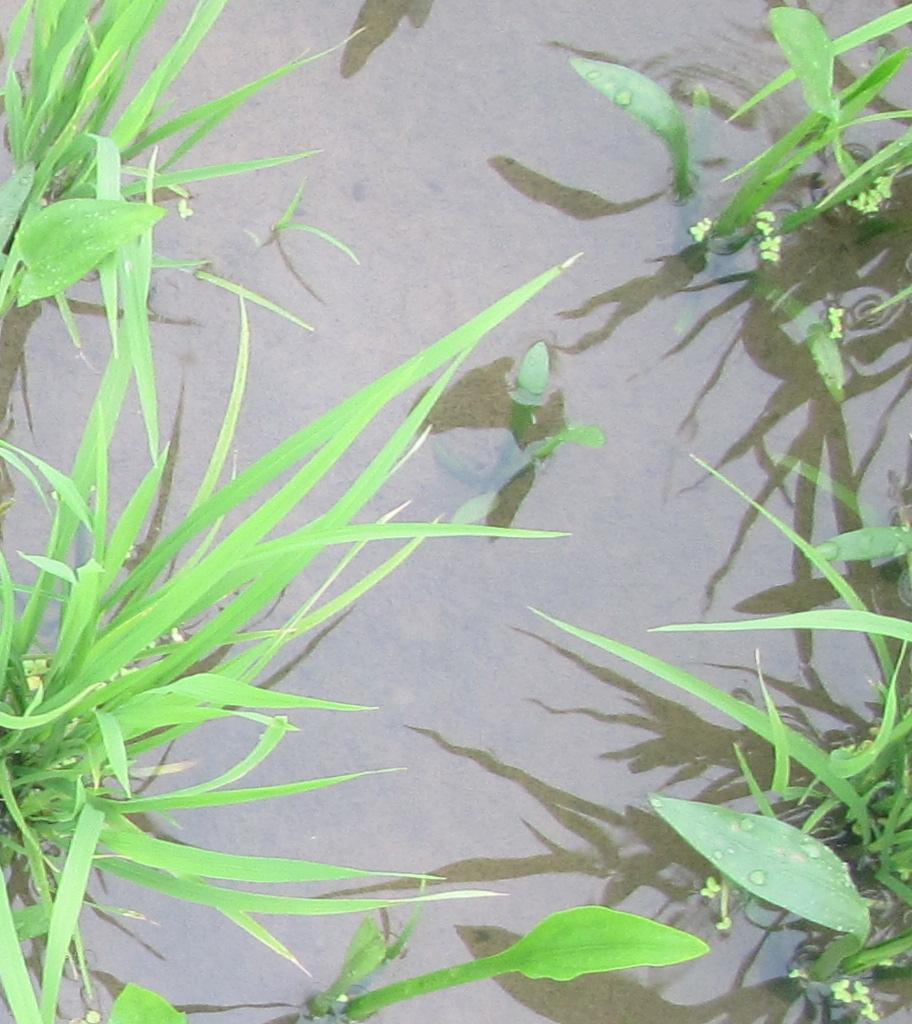Weed: (642, 783, 882, 967), (489, 897, 710, 997), (16, 196, 163, 294)
